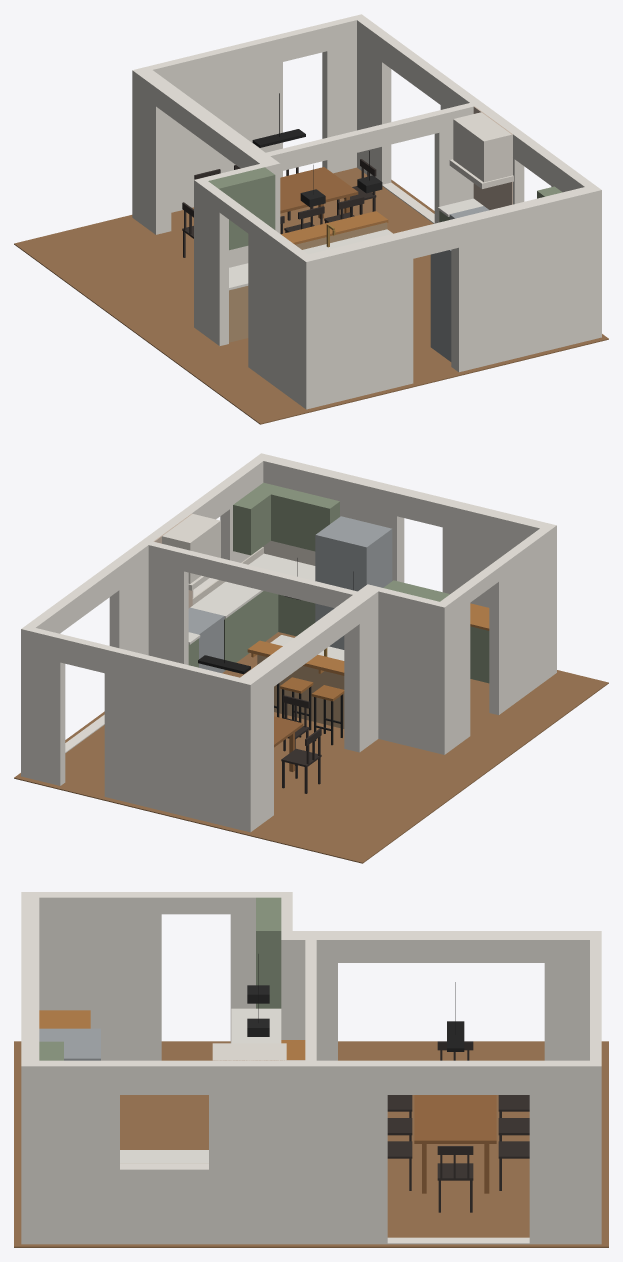
The model's file is R3_kitchen_AR_fullsize.glb.
The picture shows the model from 3 angles, top to bottom: view 1: azimuth 30°, elevation 25°; view 2: azimuth 150°, elevation 25°; view 3: azimuth 270°, elevation 25°; orthographic projection. The views are drawn at different scales.
Visible parts, largest first — view 1: wall, floor, hood, perim, steel, table, chair, island, top, wood, brick, shade; view 2: wall, floor, perim, steel, top, island, hood, chair, black, wood, exSplash, stoolseat (+1 smaller); view 3: wall, floor, chair, table, perim, top, steel, wood, hood, shade, black.
Boxes of the visible parts, x1=… form: wall: x1=132, y1=14, x2=601, y2=409; floor: x1=14, y1=167, x2=608, y2=424; hood: x1=449, y1=112, x2=513, y2=188; perim: x1=208, y1=167, x2=562, y2=250; steel: x1=430, y1=206, x2=489, y2=361; table: x1=280, y1=167, x2=358, y2=218; chair: x1=182, y1=159, x2=376, y2=257; island: x1=229, y1=222, x2=387, y2=342; top: x1=229, y1=198, x2=483, y2=290; wood: x1=281, y1=211, x2=388, y2=244; brick: x1=473, y1=106, x2=512, y2=209; shade: x1=300, y1=175, x2=382, y2=206; wall: x1=21, y1=453, x2=556, y2=832; floor: x1=14, y1=632, x2=608, y2=863; perim: x1=188, y1=482, x2=489, y2=683; steel: x1=188, y1=516, x2=392, y2=673; top: x1=188, y1=553, x2=344, y2=660; island: x1=257, y1=655, x2=344, y2=728; hood: x1=162, y1=514, x2=220, y2=590; chair: x1=281, y1=695, x2=321, y2=793; black: x1=198, y1=655, x2=342, y2=745; wood: x1=247, y1=603, x2=489, y2=675; exSplash: x1=192, y1=541, x2=315, y2=605; stoolseat: x1=280, y1=677, x2=344, y2=701; wall: x1=21, y1=892, x2=601, y2=1244; floor: x1=14, y1=1041, x2=608, y2=1247; chair: x1=387, y1=1041, x2=529, y2=1212; table: x1=414, y1=1095, x2=496, y2=1193; perim: x1=39, y1=897, x2=281, y2=1060; top: x1=120, y1=1008, x2=281, y2=1163; steel: x1=39, y1=1028, x2=100, y2=1060; wood: x1=39, y1=1010, x2=305, y2=1059; hood: x1=212, y1=1043, x2=286, y2=1060; shade: x1=247, y1=985, x2=269, y2=1036; black: x1=447, y1=1021, x2=464, y2=1051.
Size of the model in its own units: 6 by 2.44 by 7.35.
